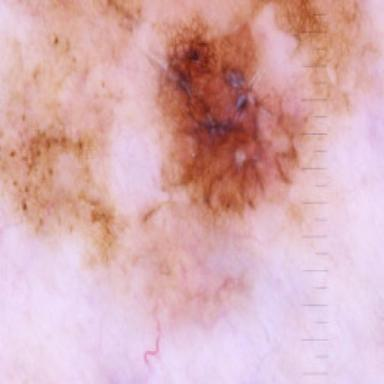Melanoma: (154, 9, 306, 226)
